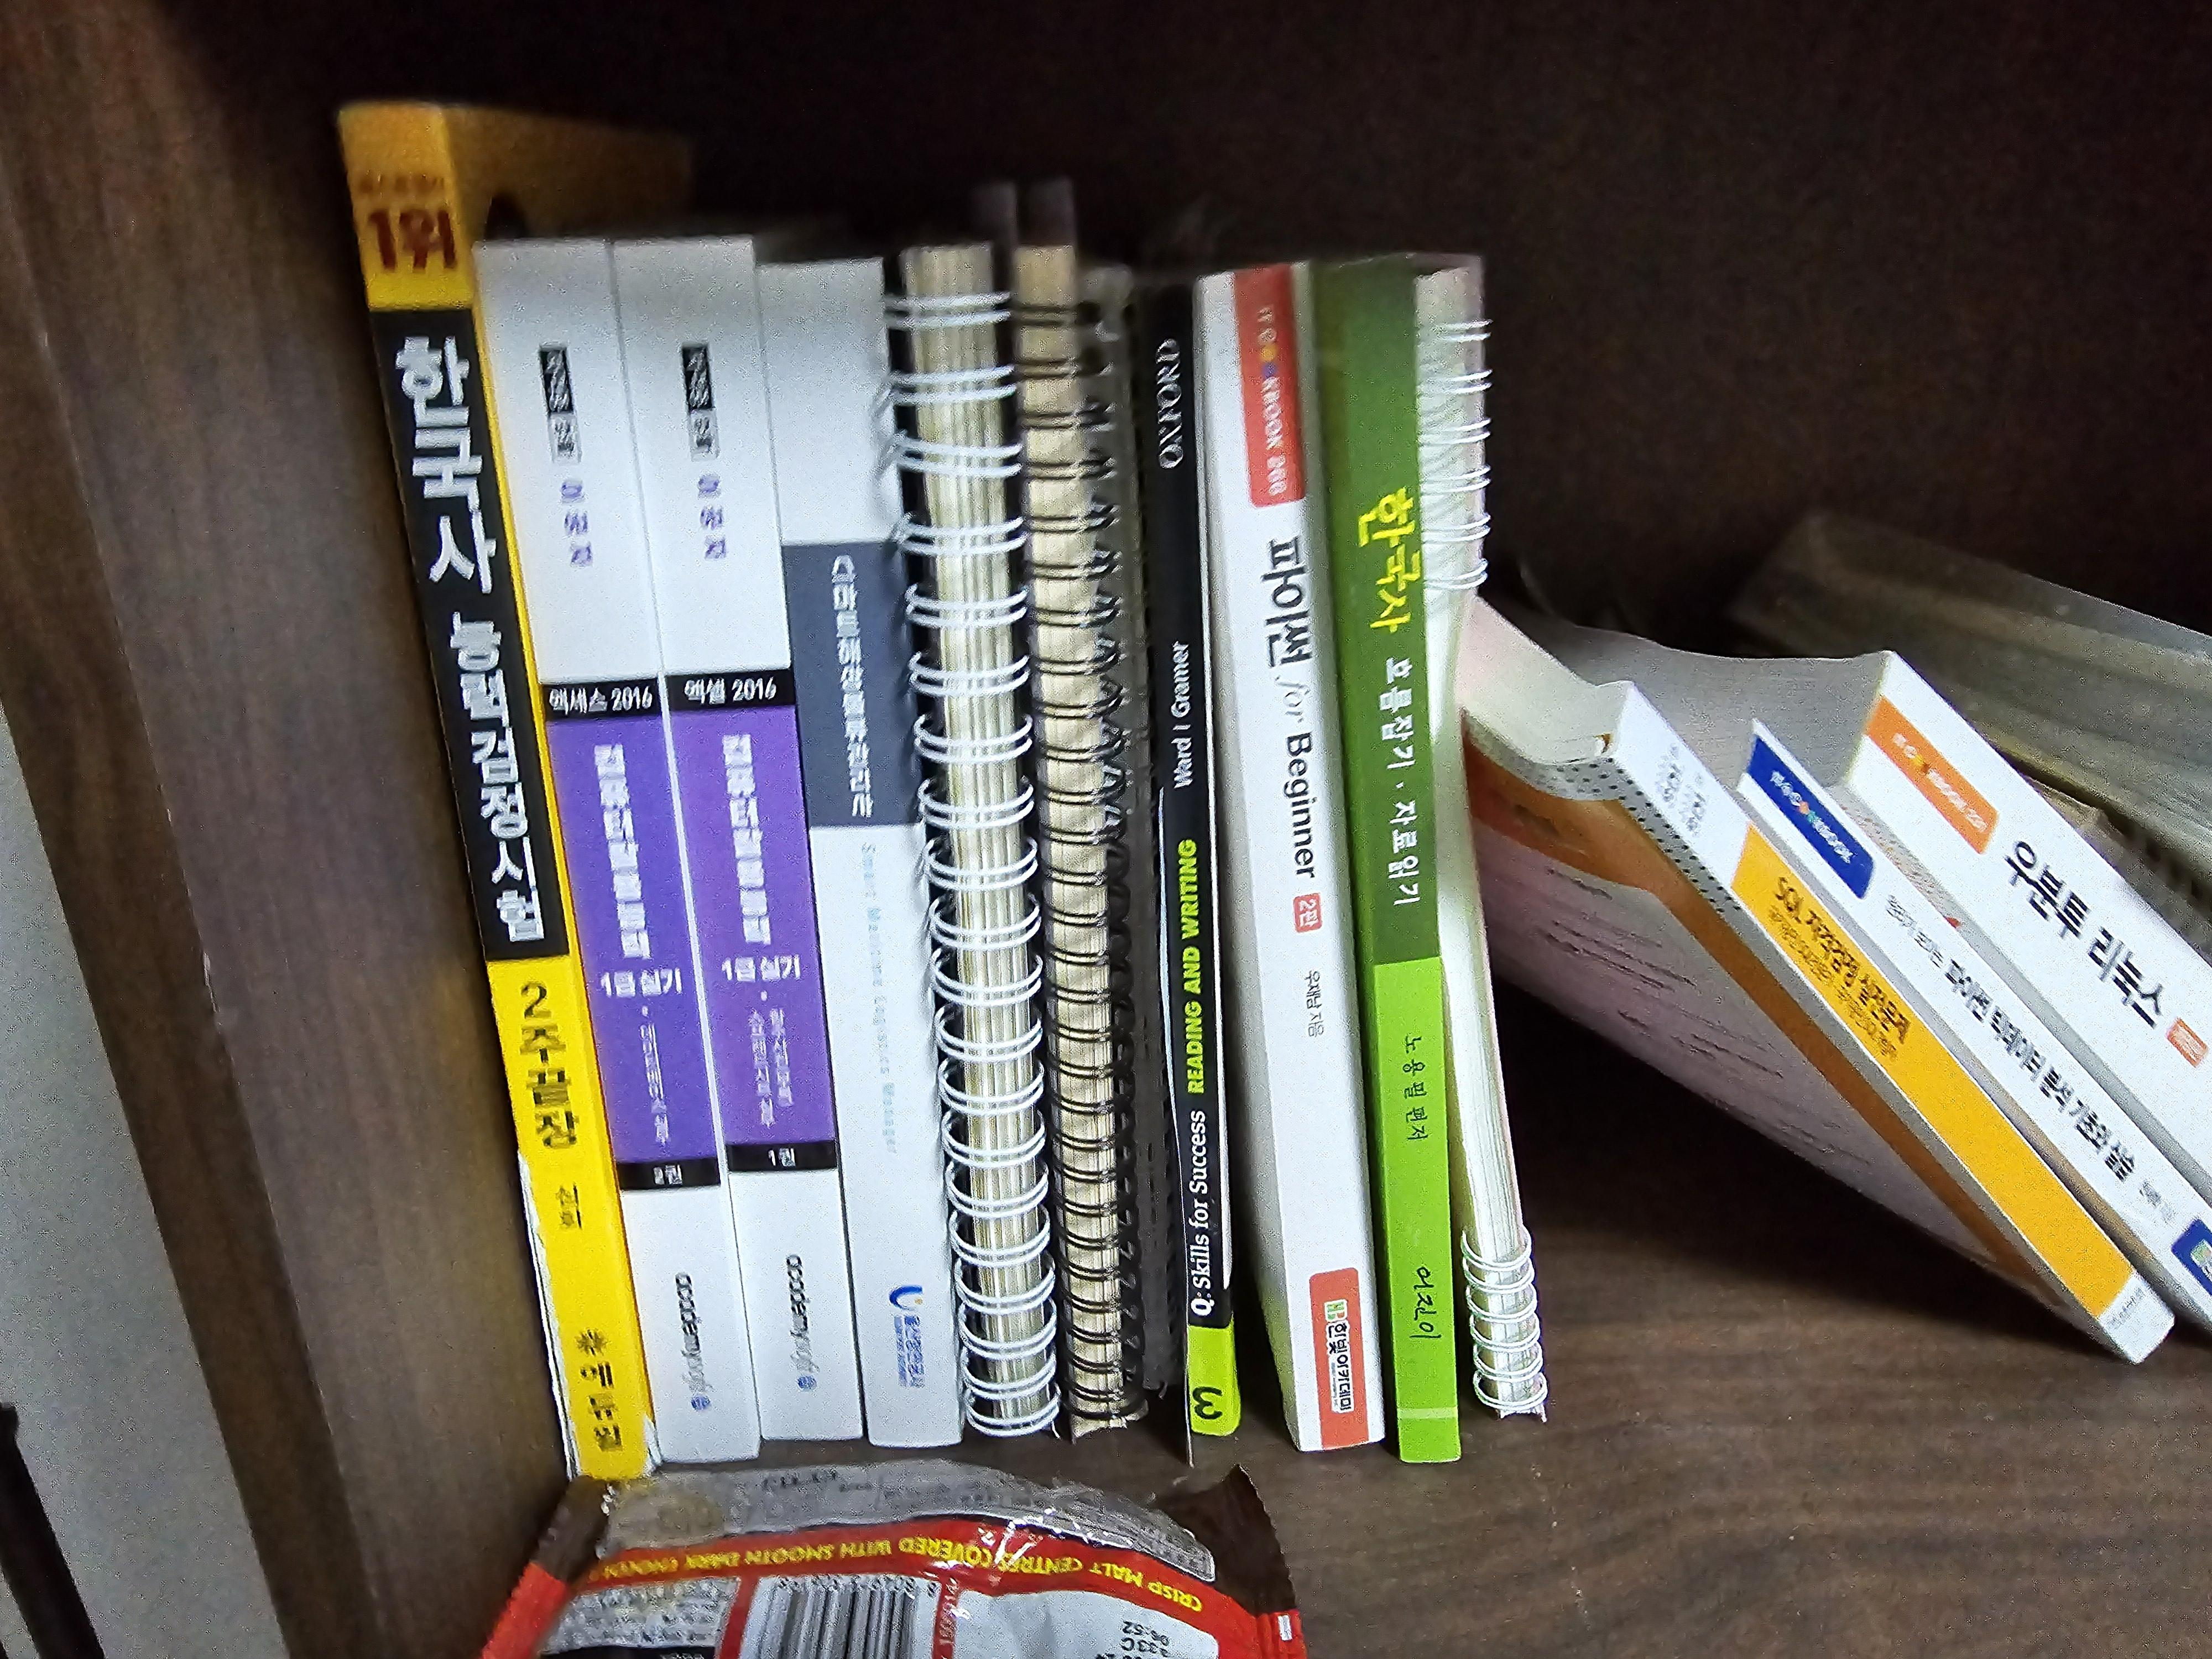book: (862, 218, 1507, 1429), (1456, 594, 2210, 1364), (333, 96, 691, 1483), (589, 216, 921, 1446)
